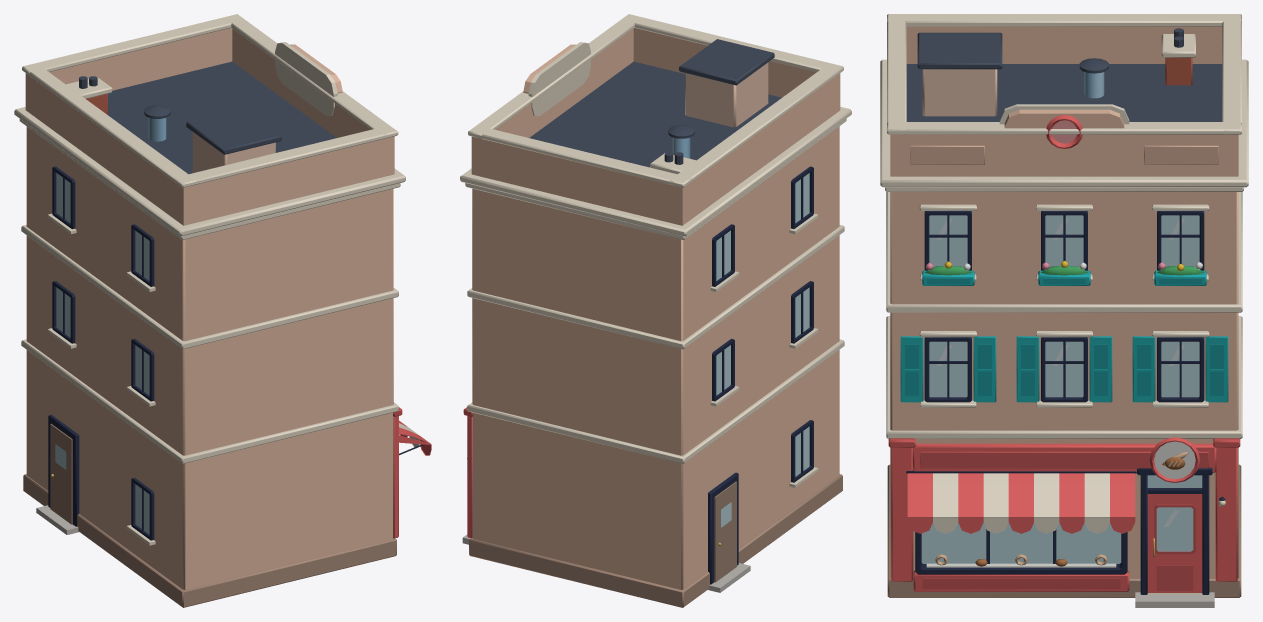
File: house_a.glb
The picture shows the model from 3 angles, left to right: view 1: azimuth 30°, elevation 25°; view 2: azimuth 150°, elevation 25°; view 3: azimuth 270°, elevation 25°; orthographic projection. The views are drawn at different scales.
Visible parts, largest first — view 1: HouseA; view 2: HouseA; view 3: HouseA.
Part boxes in pixels (left/top/right/bottom): HouseA: left=14, top=14, right=431, bottom=607; HouseA: left=460, top=14, right=851, bottom=607; HouseA: left=880, top=14, right=1248, bottom=607.
Size of the model in its own units: 6.9 by 10.8 by 7.4.
